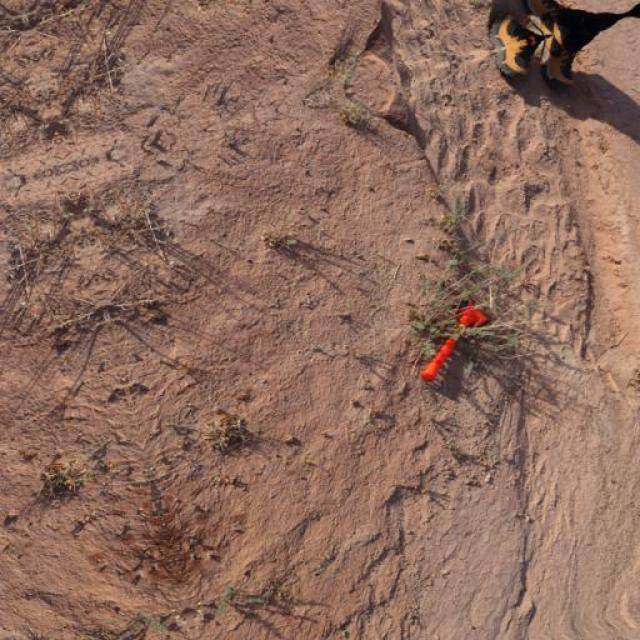mallet: (418, 302, 488, 382)
